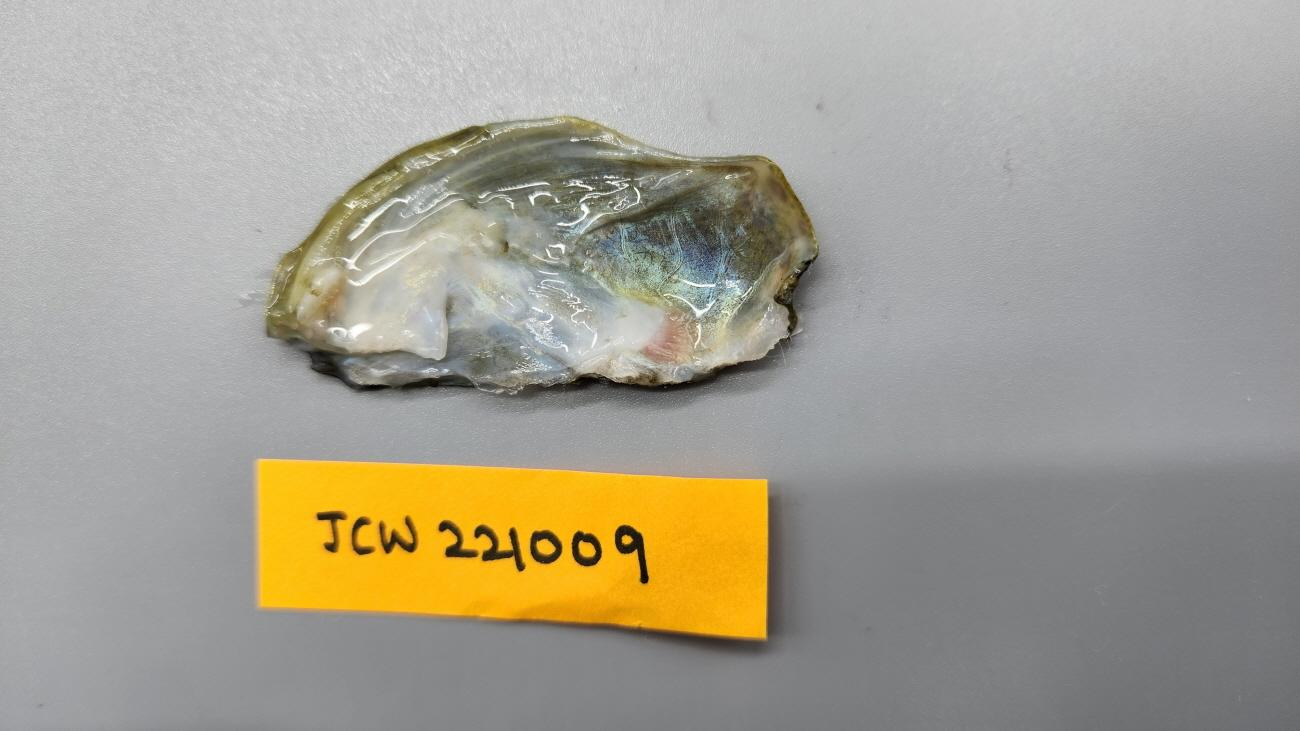POGCN: (263, 117, 820, 392)
